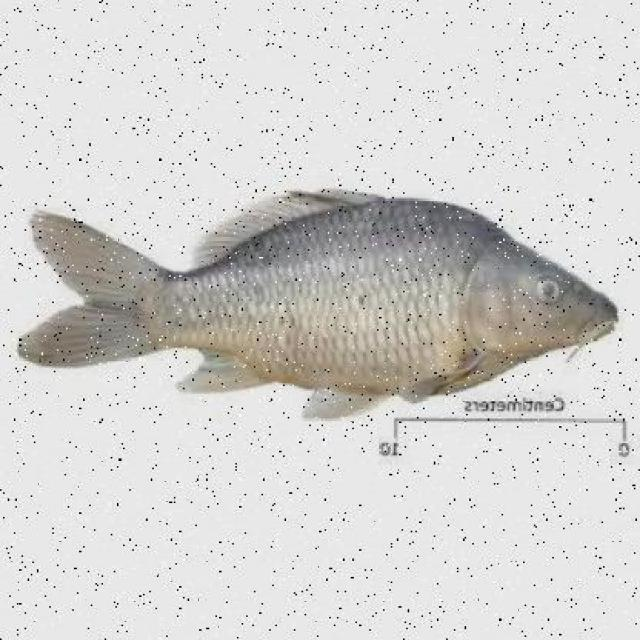ikan-mas: (17, 189, 617, 408)
